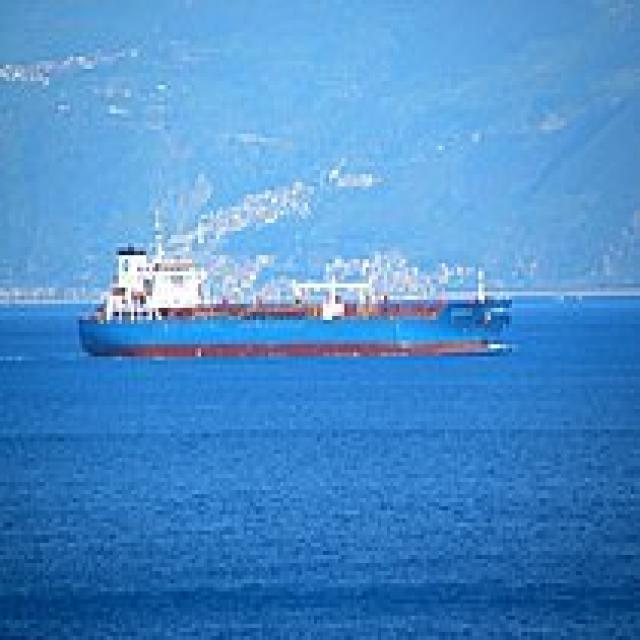Tanker: (70, 218, 515, 360)
